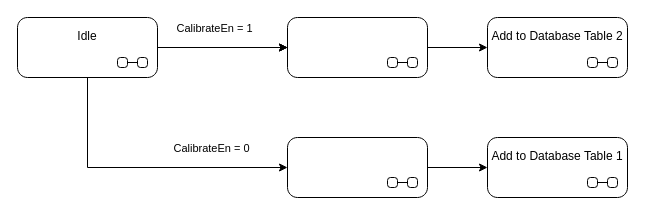
The diagram is 645 pixels wide and 215 high, and some of its shapes have lost their labels. The centre of each missing label's shape, as x and y in pixels:
Calibrate: pixel 357 47
Raw: pixel 357 167
